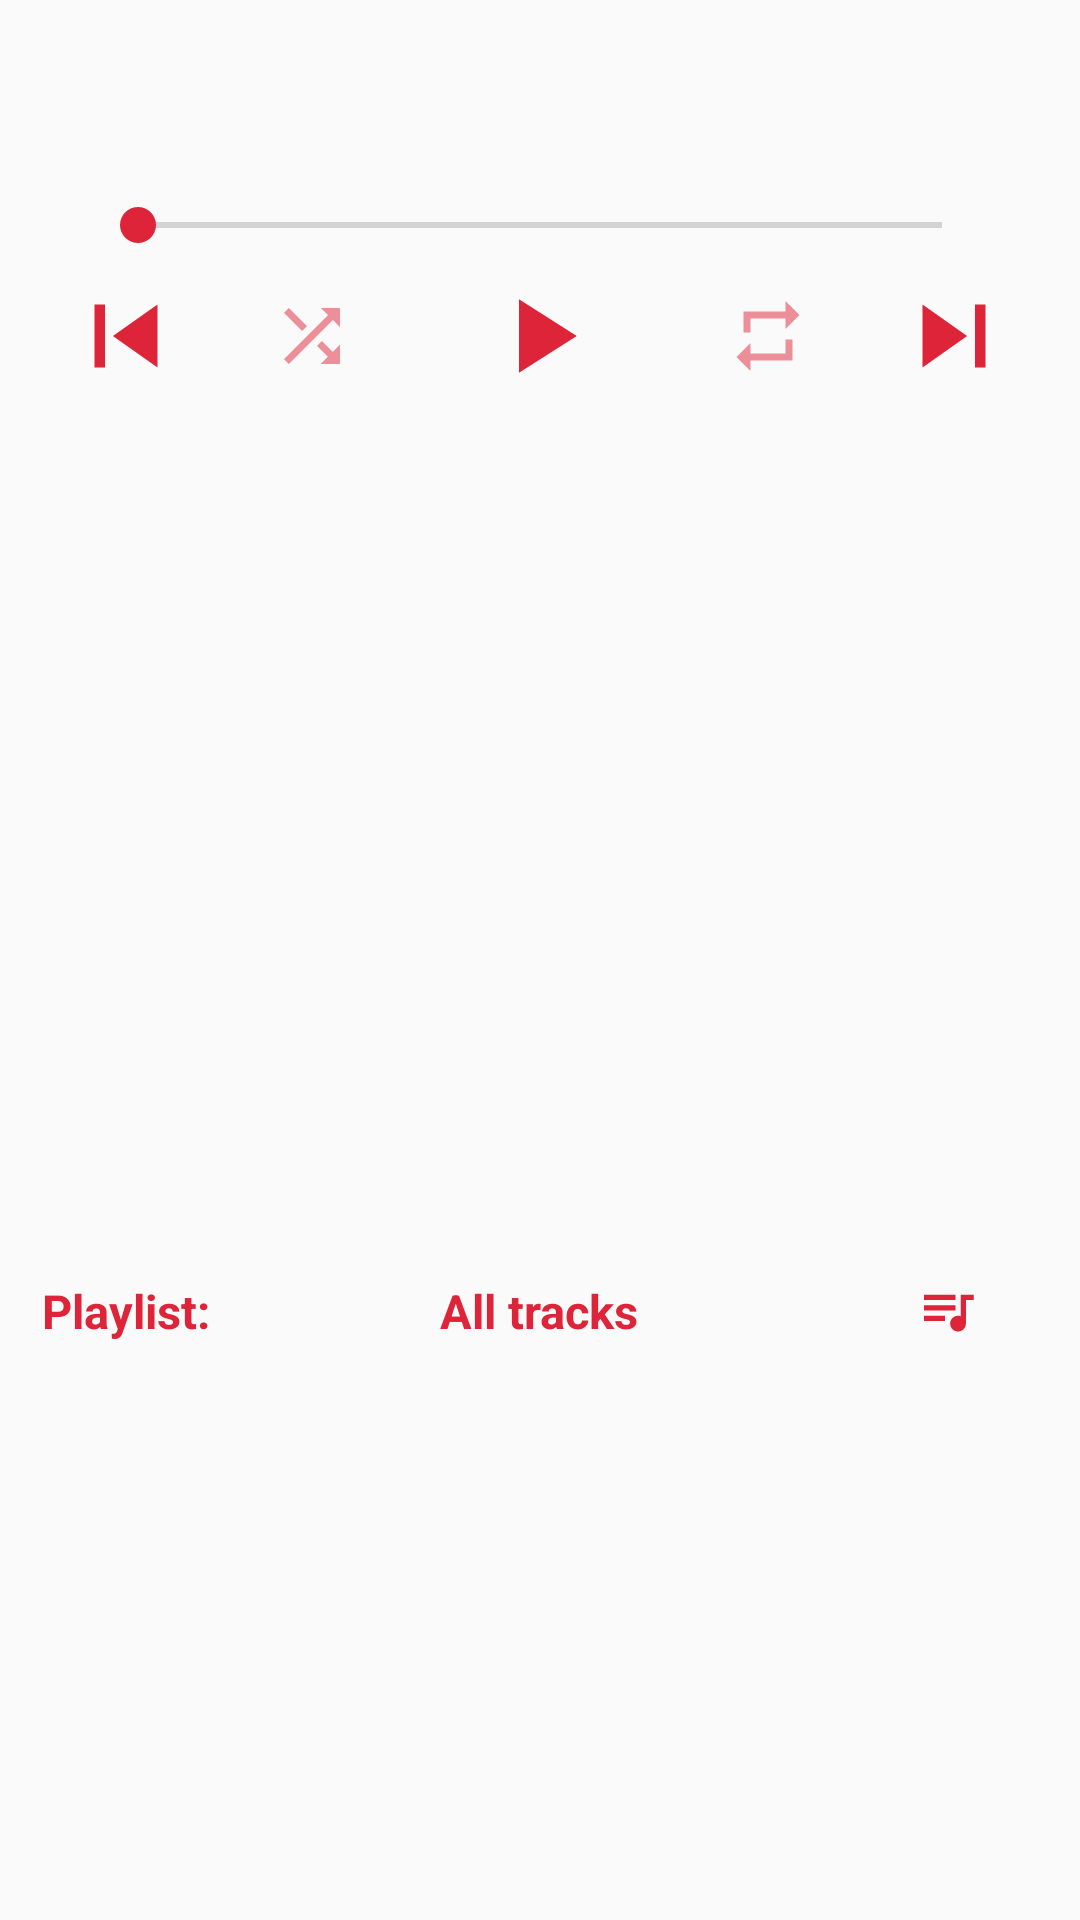

Icons on this 1080x1920 Android screen, each with its box as {"x1": x1, "y1": y1, "x2": x2, "y2": y2}:
play arrow: {"x1": 519, "y1": 299, "x2": 577, "y2": 373}
queue music: {"x1": 924, "y1": 1294, "x2": 974, "y2": 1332}
repeat faded: {"x1": 737, "y1": 301, "x2": 799, "y2": 371}
shuffle faded: {"x1": 284, "y1": 308, "x2": 340, "y2": 364}
skip next: {"x1": 922, "y1": 304, "x2": 986, "y2": 368}
skip previous: {"x1": 94, "y1": 304, "x2": 158, "y2": 368}
